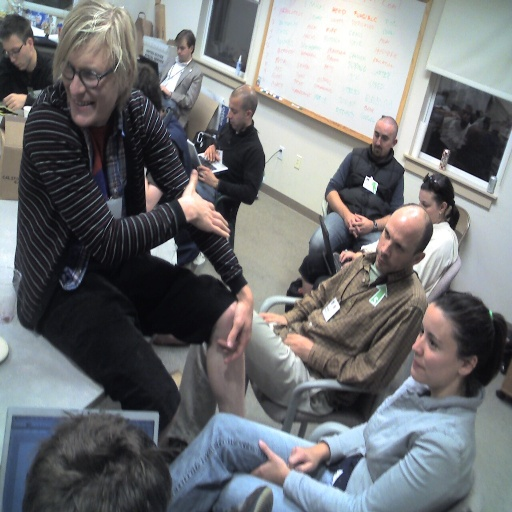hand: (168, 181, 224, 240), (216, 293, 254, 367), (249, 437, 291, 488), (285, 442, 320, 472), (283, 334, 316, 359), (195, 164, 218, 187), (348, 215, 372, 236), (1, 92, 26, 110), (344, 211, 360, 238), (258, 310, 289, 323), (339, 249, 358, 266), (204, 143, 220, 162), (159, 85, 168, 96)
